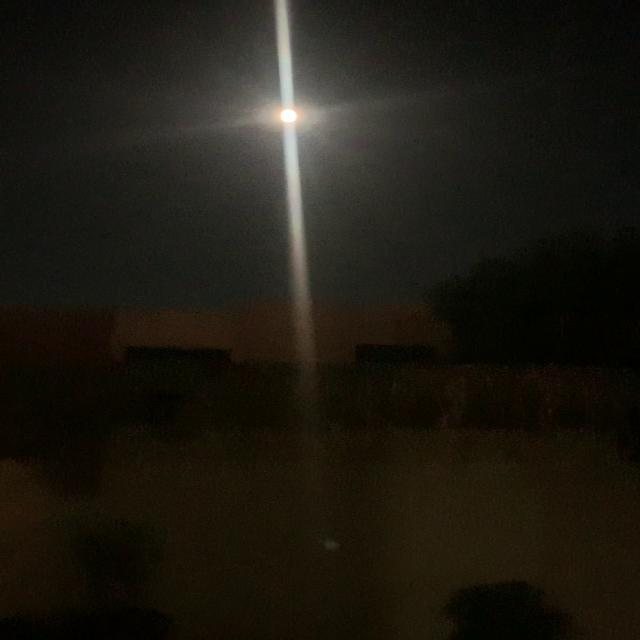moon: (256, 93, 318, 126)
